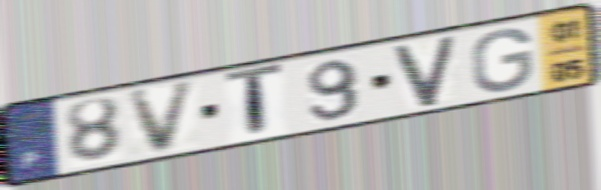8: (63, 95, 124, 167)
9: (304, 55, 364, 123)
G: (469, 26, 536, 94)
T: (222, 60, 287, 141)
V: (124, 77, 200, 158), (389, 32, 460, 110)
